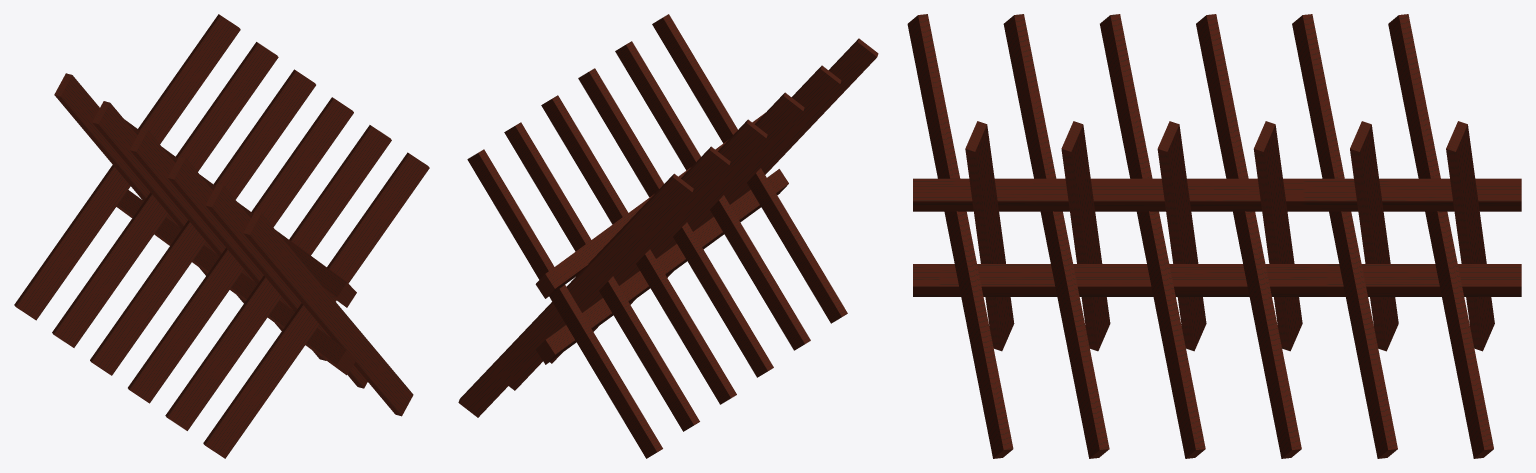
Rendered from Barricade.fbx.
3 renders of one model, left to right at view 1: azimuth 30°, elevation 25°; view 2: azimuth 150°, elevation 25°; view 3: azimuth 270°, elevation 25°, orthographic. The views are drawn at different scales.
Visible parts, largest first — view 1: Cube.019, Cube.021, Cube.020; view 2: Cube.019, Cube.021, Cube.020; view 3: Cube.019, Cube.021, Cube.020.
Boxes of the visible parts, bbox=[...] form: Cube.019: bbox=[14, 14, 429, 458]; Cube.021: bbox=[116, 190, 356, 375]; Cube.020: bbox=[124, 119, 356, 307]; Cube.019: bbox=[458, 14, 878, 458]; Cube.021: bbox=[536, 169, 788, 364]; Cube.020: bbox=[535, 112, 765, 298]; Cube.019: bbox=[907, 14, 1494, 458]; Cube.021: bbox=[913, 264, 1521, 296]; Cube.020: bbox=[913, 178, 1521, 211].
Size of the model in its own units: 2.23 by 2.68 by 4.4.
